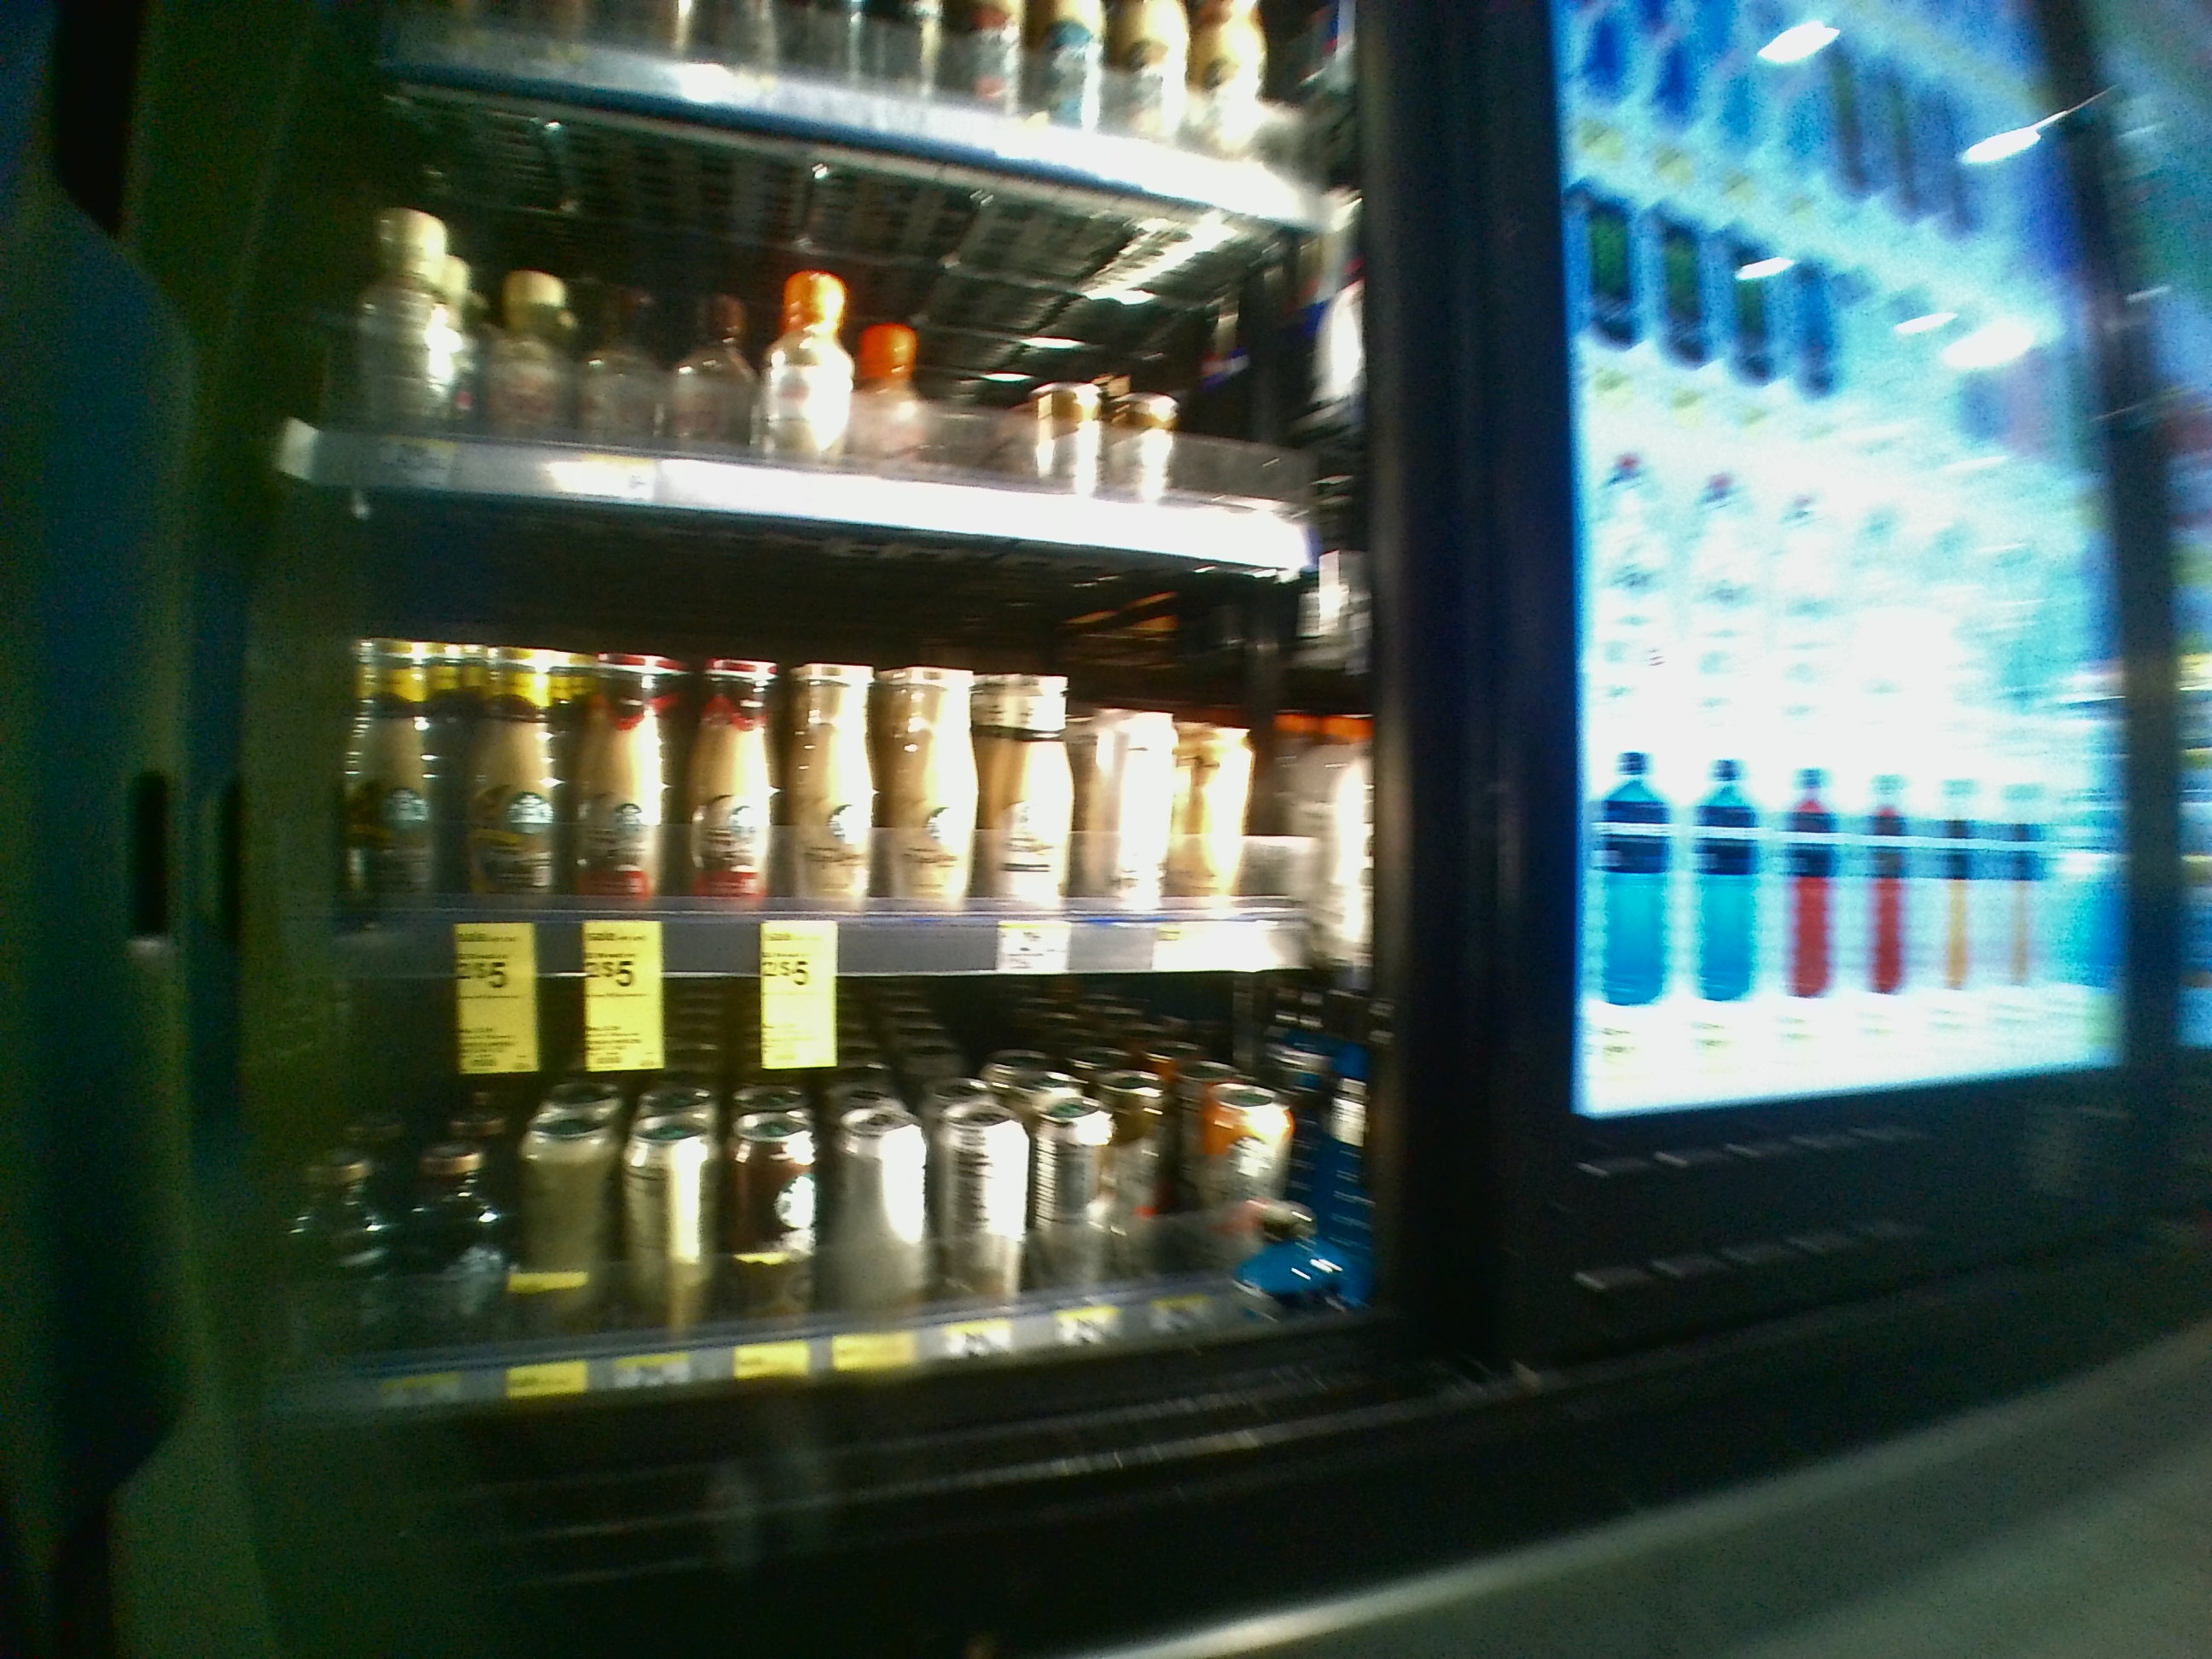shelf: (251, 504, 1392, 974)
